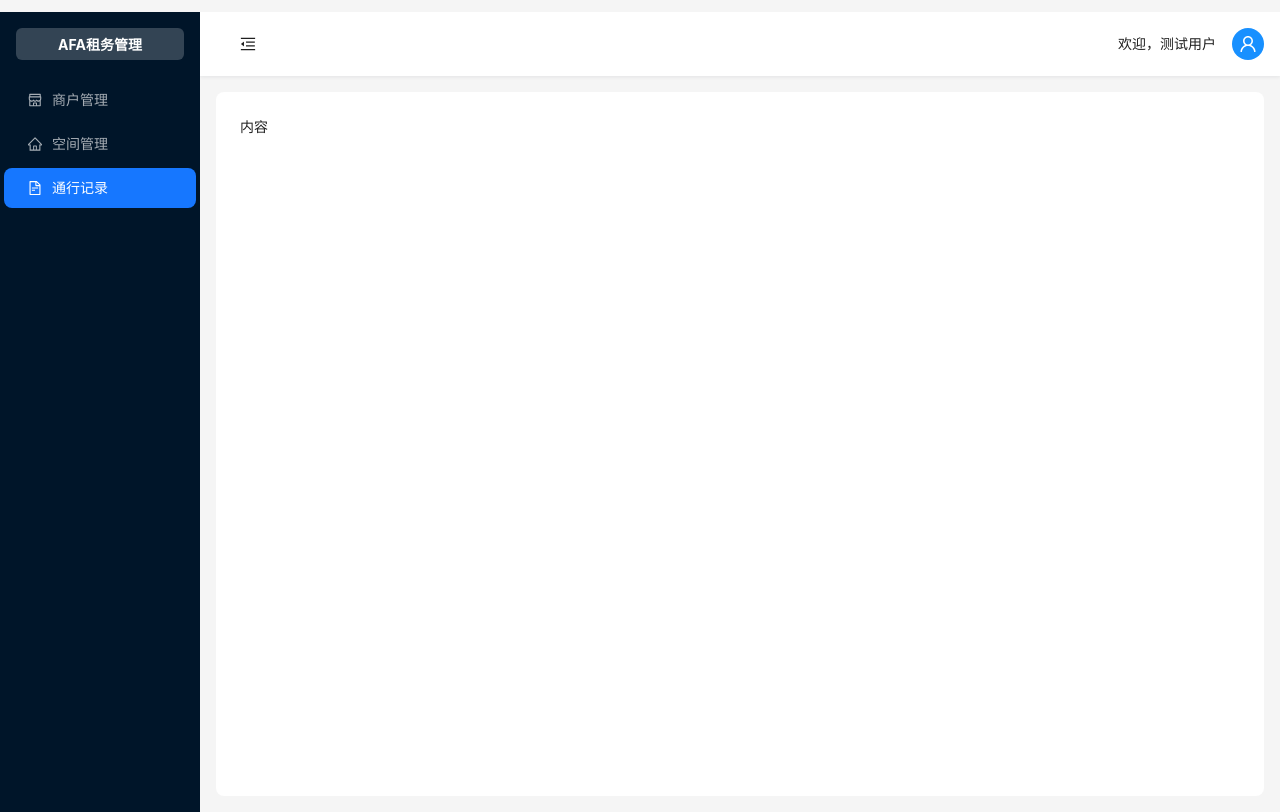
DashboardLayout › 用户菜单功能测试 › 应该显示用户下拉菜单
Expected: the text "欢迎，测试用户" is shown, [1118, 35, 1216, 52]
Click the icon named "user" next to "测试用户": click(1248, 44) [1232, 28, 1264, 60]
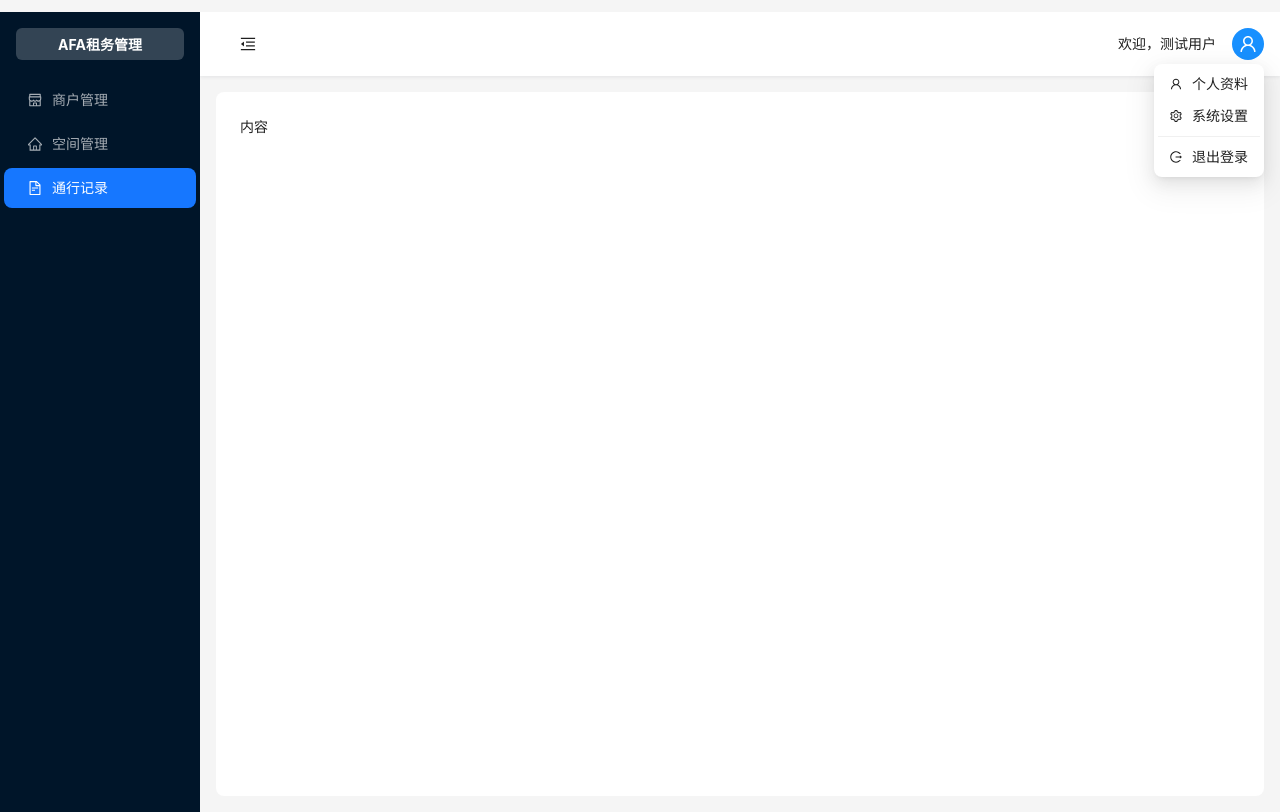
Expected: the text "个人资料" is shown, [1192, 73, 1248, 95]
Expected: the text "系统设置" is shown, [1192, 105, 1248, 127]
Expected: the text "退出登录" is shown, [1192, 146, 1248, 168]
